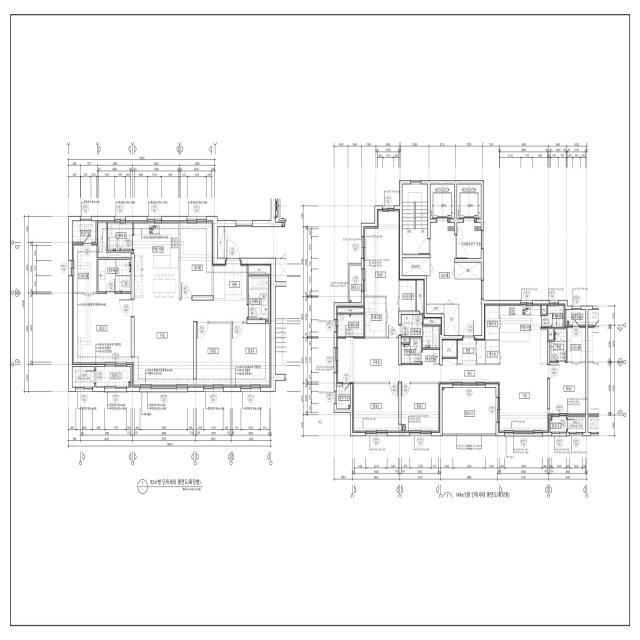space_balconi: (442, 388, 496, 434), (96, 367, 131, 387), (550, 417, 585, 432), (350, 265, 361, 303)
space_bedroom: (364, 210, 399, 337), (72, 294, 131, 364), (232, 323, 271, 387), (353, 384, 399, 432), (197, 324, 230, 387), (401, 384, 440, 433), (550, 363, 586, 415)
space_dressroom: (72, 244, 97, 292), (364, 297, 386, 337), (568, 327, 585, 361), (400, 280, 416, 311)
space_elevator: (457, 184, 481, 219), (430, 184, 454, 219)
space_elevator_hall: (427, 223, 482, 336), (224, 227, 285, 258)
space_front: (213, 260, 247, 300), (458, 337, 485, 365)
space_kitchen: (134, 221, 179, 300), (500, 304, 547, 365)
space_living_room: (337, 338, 549, 432), (133, 300, 247, 387)
space_multipurpose_space: (108, 221, 132, 251), (337, 314, 364, 337), (542, 304, 565, 327)
space_other: (181, 221, 213, 298), (97, 221, 132, 257), (402, 258, 430, 276), (485, 304, 499, 339), (444, 304, 459, 335), (455, 262, 481, 279), (72, 367, 94, 387), (486, 341, 499, 363), (442, 339, 457, 357), (276, 259, 287, 282), (417, 280, 424, 313), (217, 227, 224, 258), (248, 265, 271, 274), (427, 304, 444, 314), (337, 307, 364, 313), (424, 318, 441, 325), (549, 329, 553, 340), (401, 338, 409, 343), (401, 331, 409, 336)
space_outdoor_room: (72, 221, 97, 241), (337, 384, 350, 409), (566, 310, 585, 326)
space_staircase: (402, 184, 428, 254), (276, 287, 287, 374)
space_toilet: (401, 315, 439, 348), (98, 259, 131, 292), (401, 338, 439, 365), (248, 276, 269, 319), (550, 329, 566, 361)
